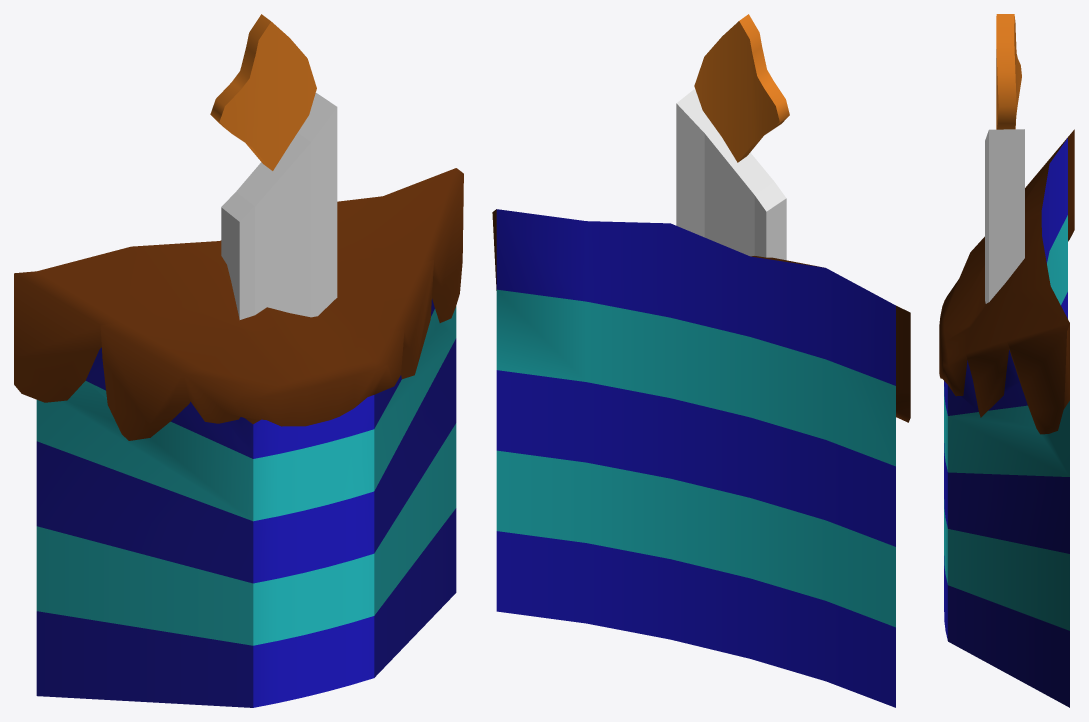
File: Cake_Outer.fbx
3 renders of one model, left to right at view 1: azimuth 30°, elevation 25°; view 2: azimuth 150°, elevation 25°; view 3: azimuth 270°, elevation 25°, orthographic. The views are drawn at different scales.
Visible parts, largest first — view 1: Cake_Outer; view 2: Cake_Outer; view 3: Cake_Outer.
Part boxes in pixels (left/top/right/bottom): Cake_Outer: left=14, top=14, right=463, bottom=707; Cake_Outer: left=492, top=14, right=910, bottom=707; Cake_Outer: left=939, top=14, right=1074, bottom=707.
Size of the model in its own units: 30.92 by 43.49 by 9.
